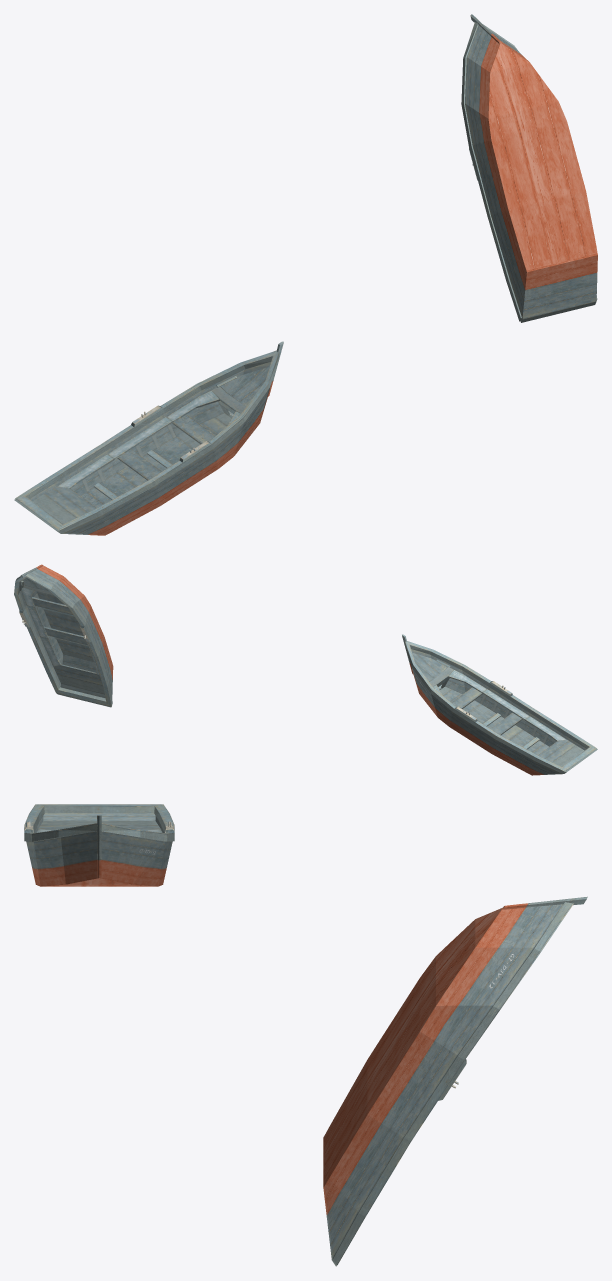
The model's file is boats.obj.
3 renders of one model, top to bottom at view 1: azimuth 30°, elevation 25°; view 2: azimuth 150°, elevation 25°; view 3: azimuth 270°, elevation 25°, orthographic. The views are drawn at different scales.
Parts seen in each view (by area): view 1: boat.002, boat.003; view 2: boat.003, boat.002; view 3: boat.002, boat.003.
Boxes of the visible parts, box(x1,y1,x2,y2) form: boat.002: box(461, 14, 597, 322); boat.003: box(14, 341, 283, 535); boat.003: box(402, 634, 597, 775); boat.002: box(14, 564, 113, 707); boat.002: box(323, 896, 587, 1266); boat.003: box(24, 804, 174, 886).
Size of the model in its own units: 7.45 by 2.72 by 3.86.
1 material, 1 textured.
